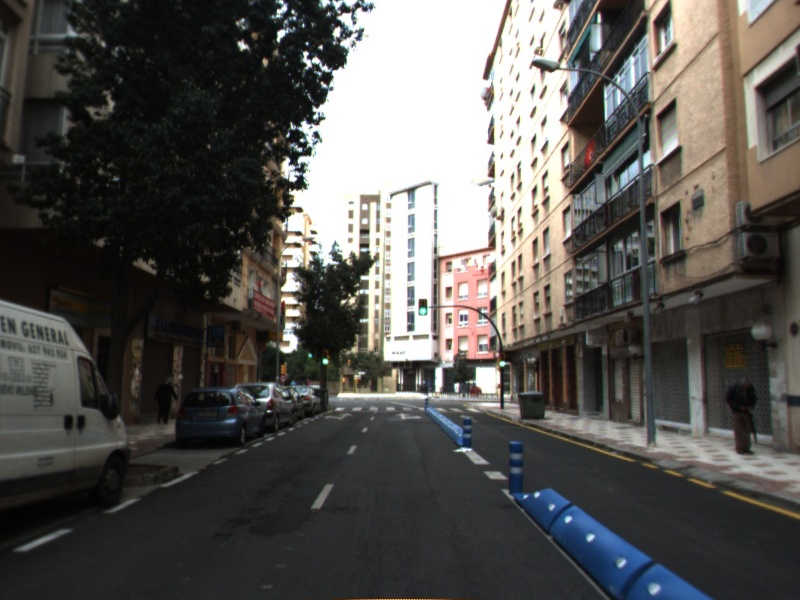STRAIGHT_LEFT: (322, 411, 355, 422)
STRAIGHT_RIGHT: (394, 411, 424, 422)
